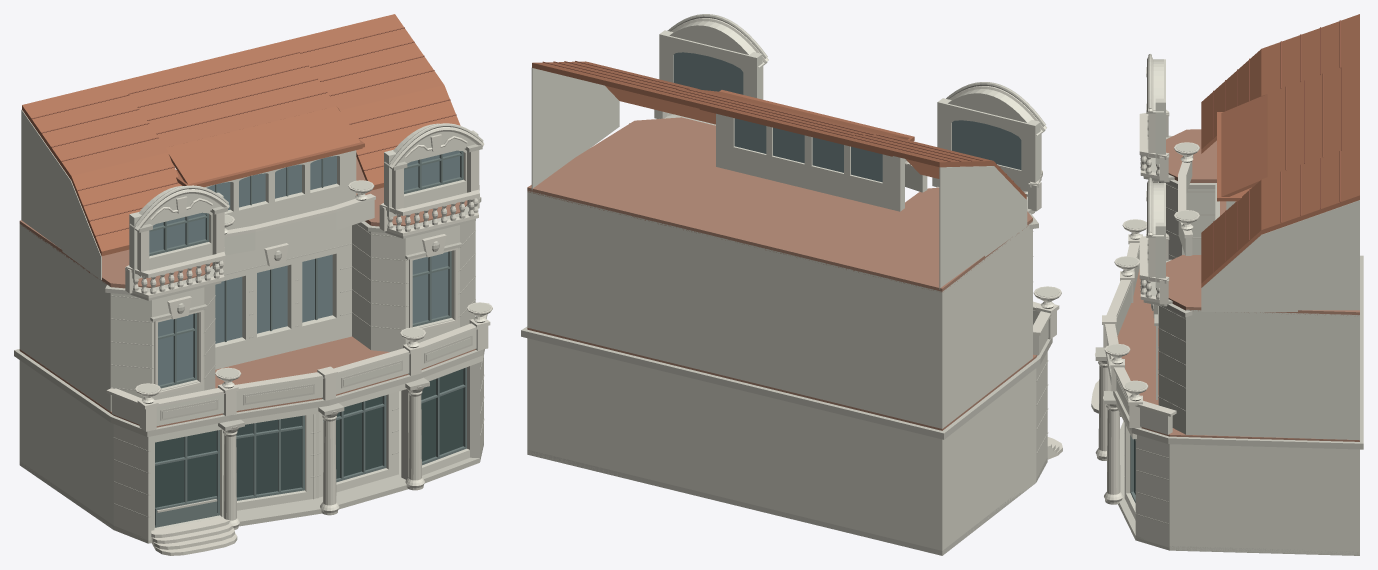
The model's file is xuhui-yanqing-road-130-residence-lod.glb.
3 renders of one model, left to right at view 1: azimuth 30°, elevation 25°; view 2: azimuth 150°, elevation 25°; view 3: azimuth 270°, elevation 25°, orthographic. The views are drawn at different scales.
Visible parts, largest first — view 1: 延庆路130号住宅南向庭院立面; view 2: 延庆路130号住宅南向庭院立面; view 3: 延庆路130号住宅南向庭院立面.
Boxes of the visible parts, x1,y1,x2,y2 form: 延庆路130号住宅南向庭院立面: (14,14,492,555); 延庆路130号住宅南向庭院立面: (521,14,1062,555); 延庆路130号住宅南向庭院立面: (1091,14,1363,555).
Bounding box in the file's own units: 15.84 × 14.09 × 9.7.
